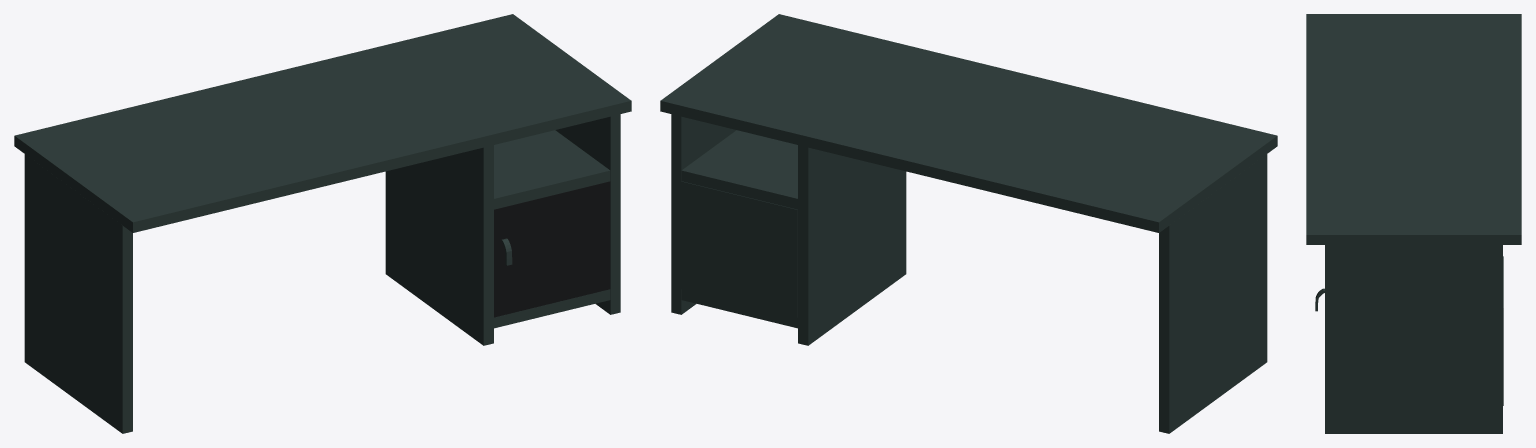
The model's file is Prop_Desk_05.fbx.
3 renders of one model, left to right at view 1: azimuth 30°, elevation 25°; view 2: azimuth 150°, elevation 25°; view 3: azimuth 270°, elevation 25°, orthographic. The views are drawn at different scales.
Parts seen in each view (by area): view 1: Prop_Desk_05; view 2: Prop_Desk_05; view 3: Prop_Desk_05.
Part boxes in pixels (x1,y1,x2,y2): Prop_Desk_05: [14, 14, 631, 433]; Prop_Desk_05: [660, 14, 1277, 433]; Prop_Desk_05: [1306, 14, 1521, 433].
Bounding box in the file's own units: 170 × 71.38 × 70.
